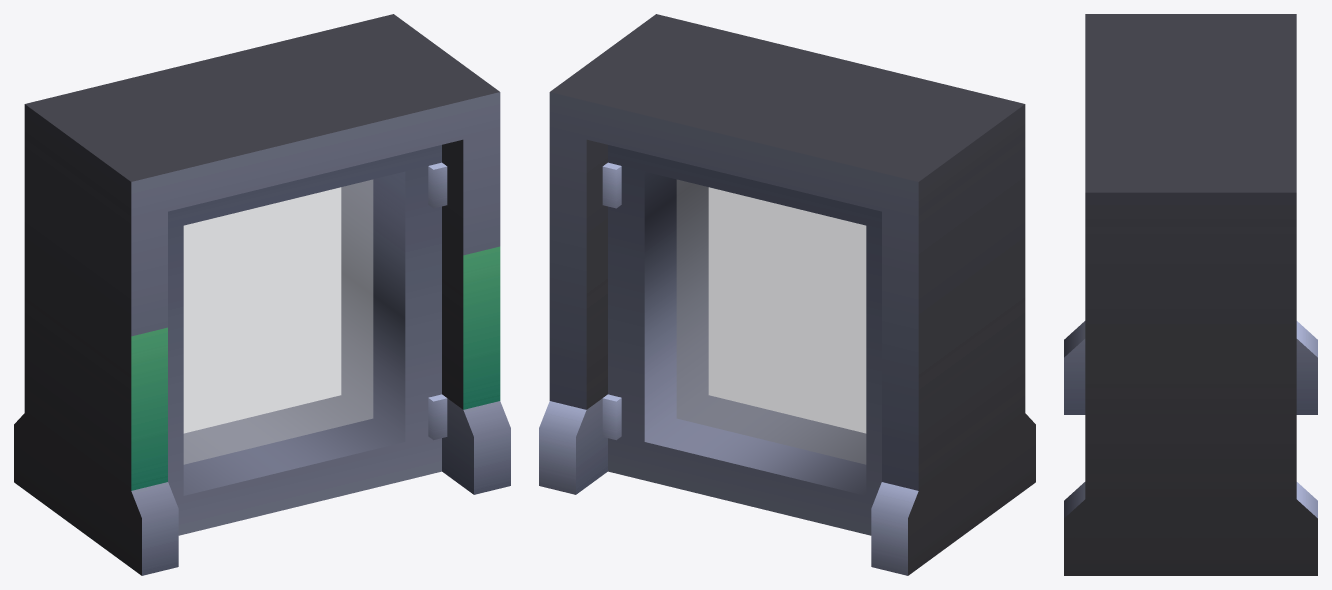
Rendered from wall-window.glb.
3 views of the same model, side by side, from view 1: azimuth 30°, elevation 25°; view 2: azimuth 150°, elevation 25°; view 3: azimuth 270°, elevation 25° (orthographic).
Visible parts, largest first — view 1: wall-window, (%ignore); view 2: wall-window, (%ignore); view 3: wall-window.
Part boxes in pixels (bbox=[...]): wall-window: bbox=[14, 14, 510, 575]; (%ignore): bbox=[183, 179, 373, 464]; wall-window: bbox=[539, 14, 1035, 575]; (%ignore): bbox=[676, 179, 866, 464]; wall-window: bbox=[1064, 14, 1317, 575].
Bounding box in the file's own units: 1 × 1 × 0.6001.
Materials: 2 (1 with a texture image).
